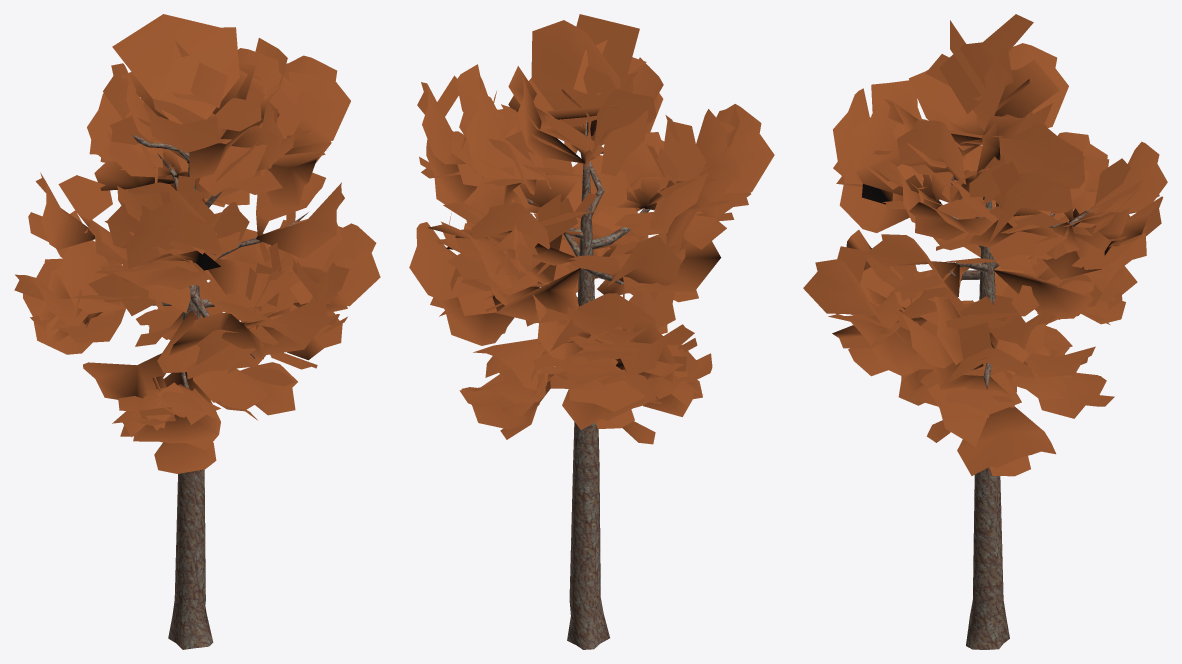
The model's file is Fol_PineA.FBX.
3 renders of one model, left to right at view 1: azimuth 30°, elevation 25°; view 2: azimuth 150°, elevation 25°; view 3: azimuth 270°, elevation 25°, orthographic.
Visible parts, largest first — view 1: Pine_Needles1, Pine_Trunk1; view 2: Pine_Needles1, Pine_Trunk1; view 3: Pine_Needles1, Pine_Trunk1.
Boxes of the visible parts, x1,y1,x2,y2 form: Pine_Needles1: [14, 14, 380, 473]; Pine_Trunk1: [132, 134, 308, 649]; Pine_Needles1: [409, 14, 774, 444]; Pine_Trunk1: [526, 118, 651, 649]; Pine_Needles1: [803, 14, 1167, 476]; Pine_Trunk1: [949, 176, 1092, 649].
Size of the model in its own units: 997 by 1960 by 1043.
